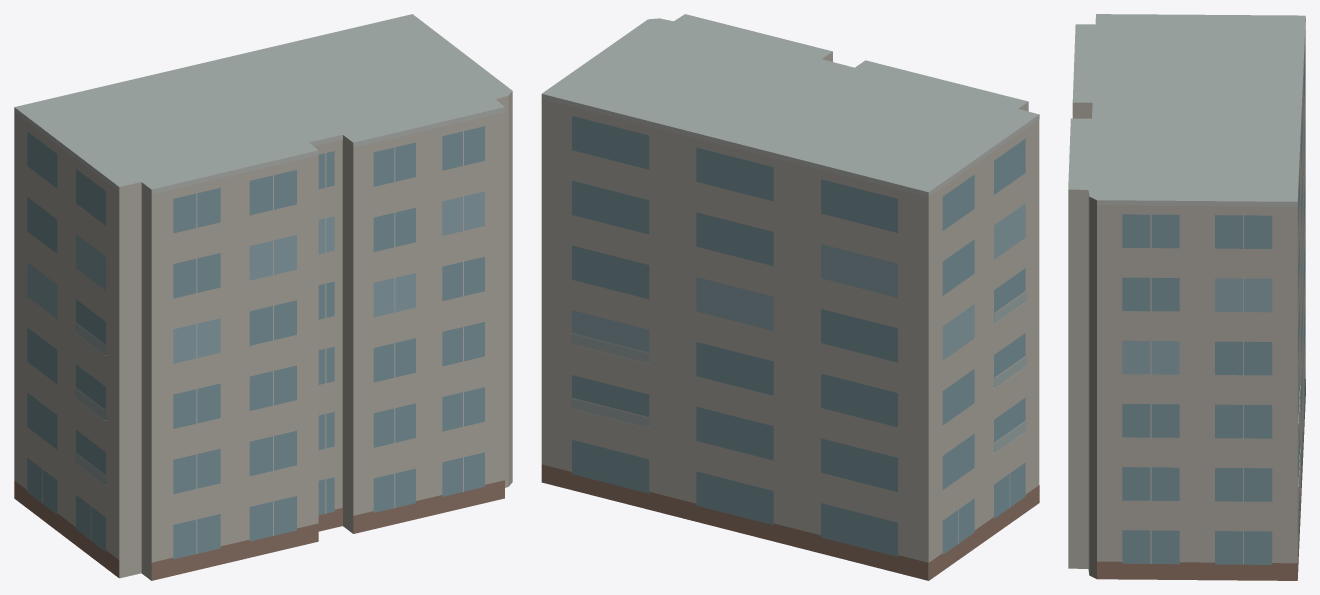
File: survey-upis-33010583.glb
3 views of the same model, side by side, from view 1: azimuth 30°, elevation 25°; view 2: azimuth 150°, elevation 25°; view 3: azimuth 270°, elevation 25° (orthographic). The views are drawn at different scales.
Parts seen in each view (by area): view 1: survey-upis-33010583.tmp; view 2: survey-upis-33010583.tmp; view 3: survey-upis-33010583.tmp.
Boxes of the visible parts, <box> form: survey-upis-33010583.tmp: <box>14,14,512,580</box>; survey-upis-33010583.tmp: <box>541,14,1039,580</box>; survey-upis-33010583.tmp: <box>1068,14,1305,580</box>.
Size of the model in its own units: 19.95 by 18.75 by 10.66.
